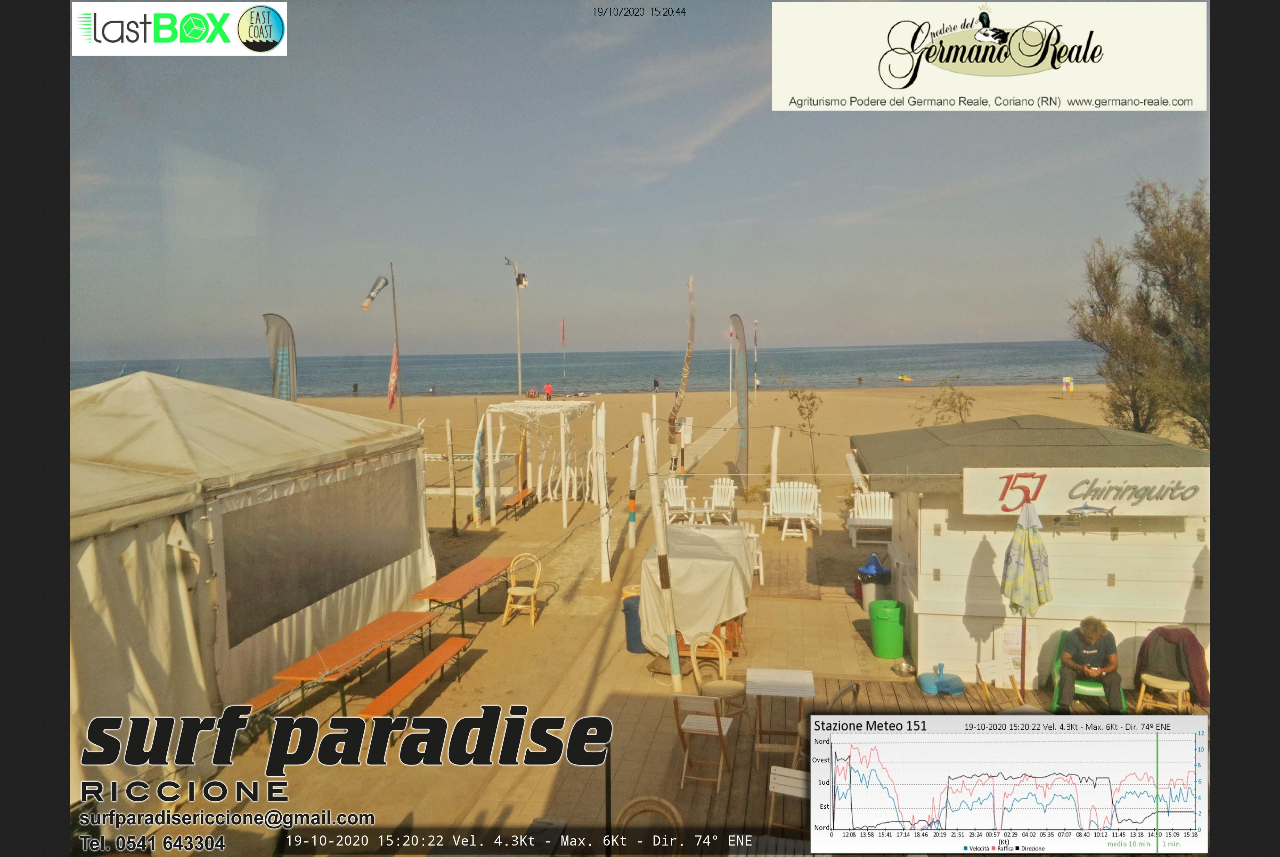no: (382, 344, 401, 408)
